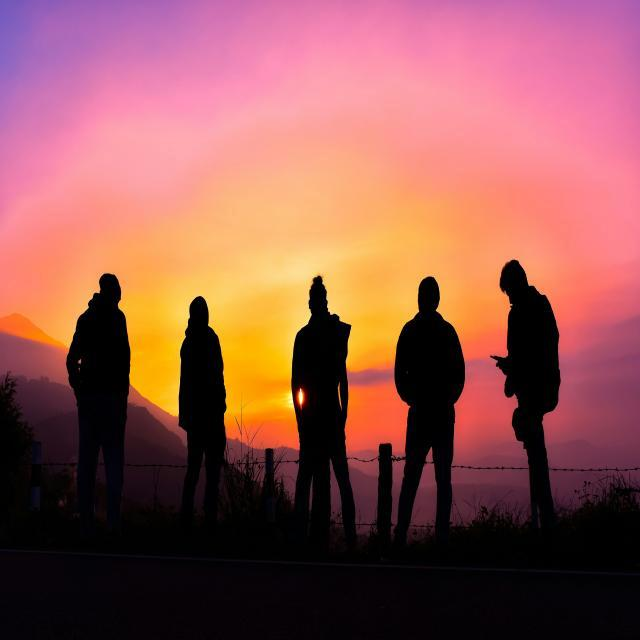no_head_wear: (500, 260, 527, 285), (189, 296, 209, 317), (99, 273, 120, 292), (419, 276, 440, 294), (311, 273, 324, 290)
person: (394, 276, 465, 545), (491, 260, 560, 536), (291, 275, 357, 548), (66, 274, 130, 538), (179, 296, 226, 528)
